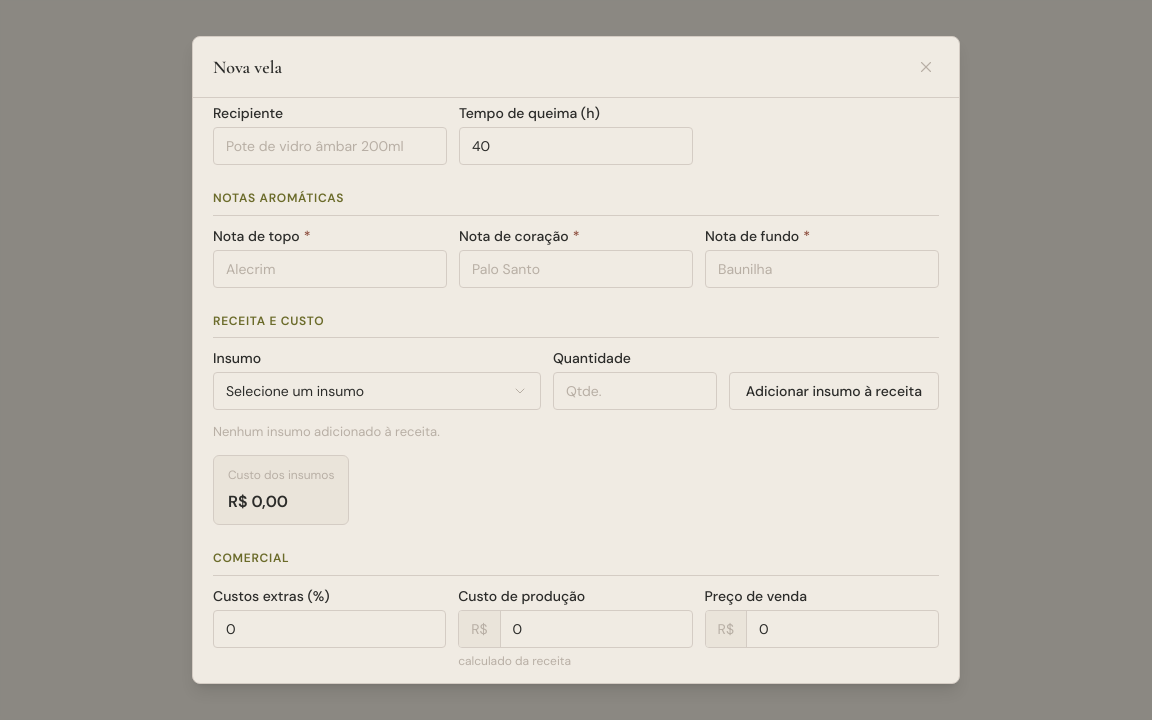
Test: ModalNovoProduto — Receita e custo › caso de erro: remover todos os insumos zera o custo calculado sem quebrar margem/markup
The image size is (1152, 720).
(page scrolled)
Select "Cera de soja (g)" in the dropdown labelled "Insumo" at (377, 391), box [213,372,541,410]
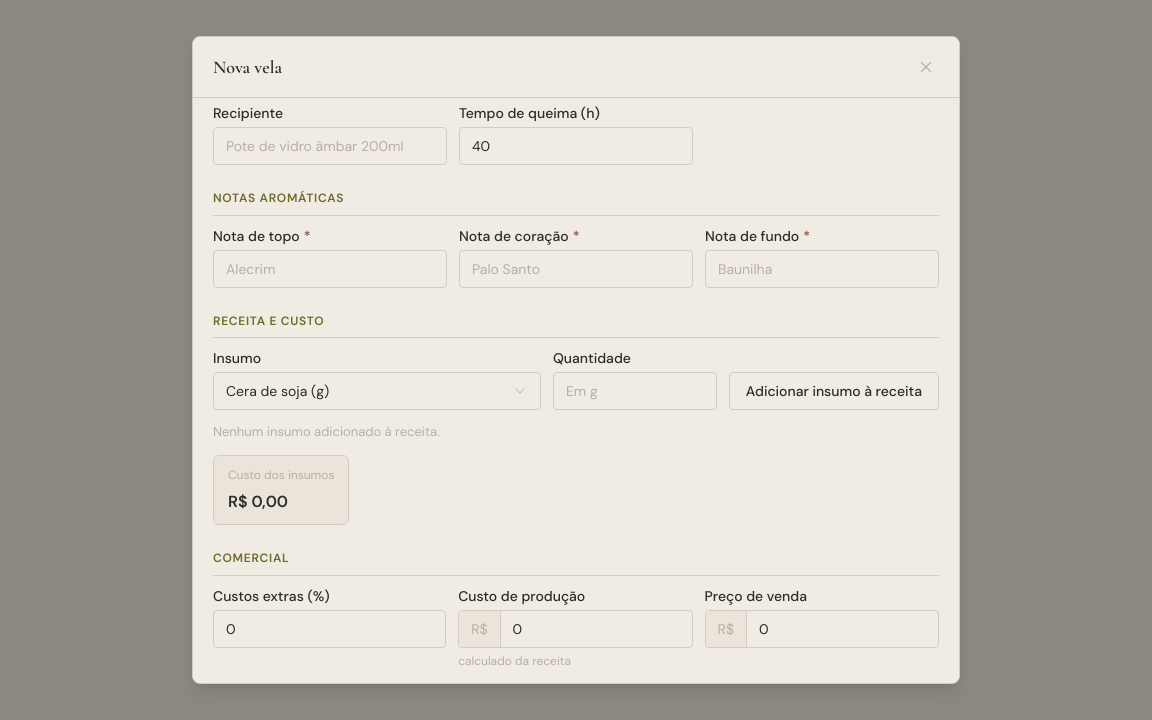
Type "50" into the number field labelled "Quantidade".
click(635, 391); type("50")  # box [553,372,717,410]
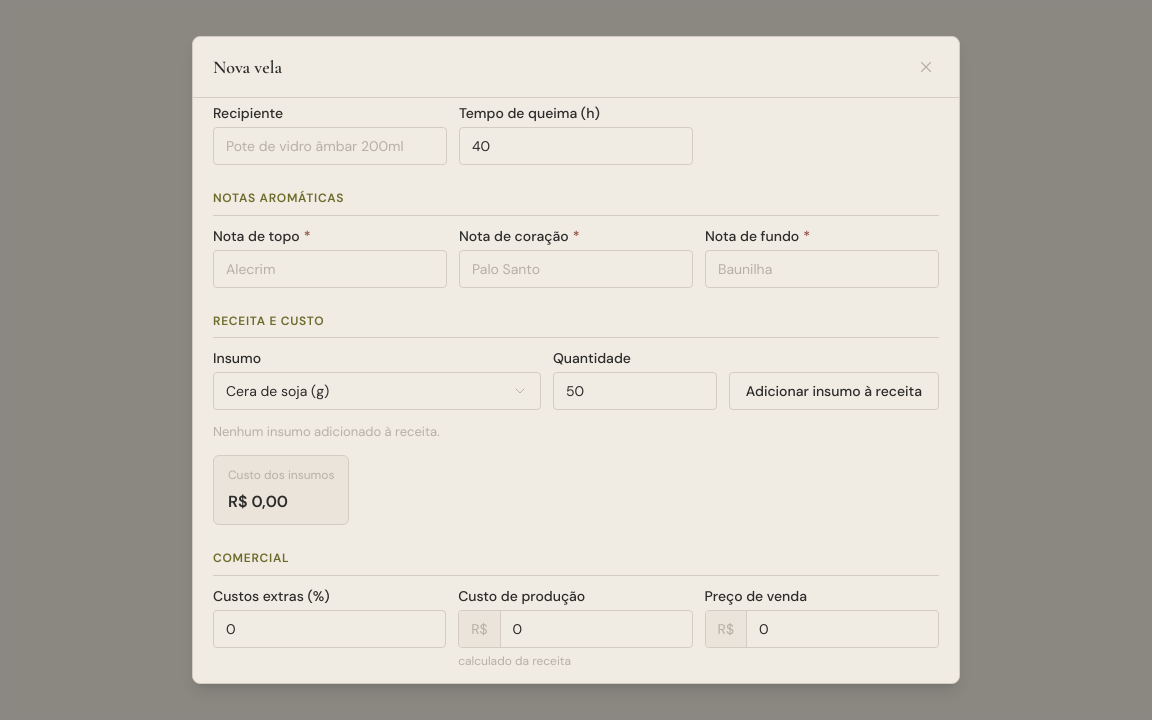
Click the button "Adicionar insumo à receita".
click(834, 391)  # box [729,372,939,410]
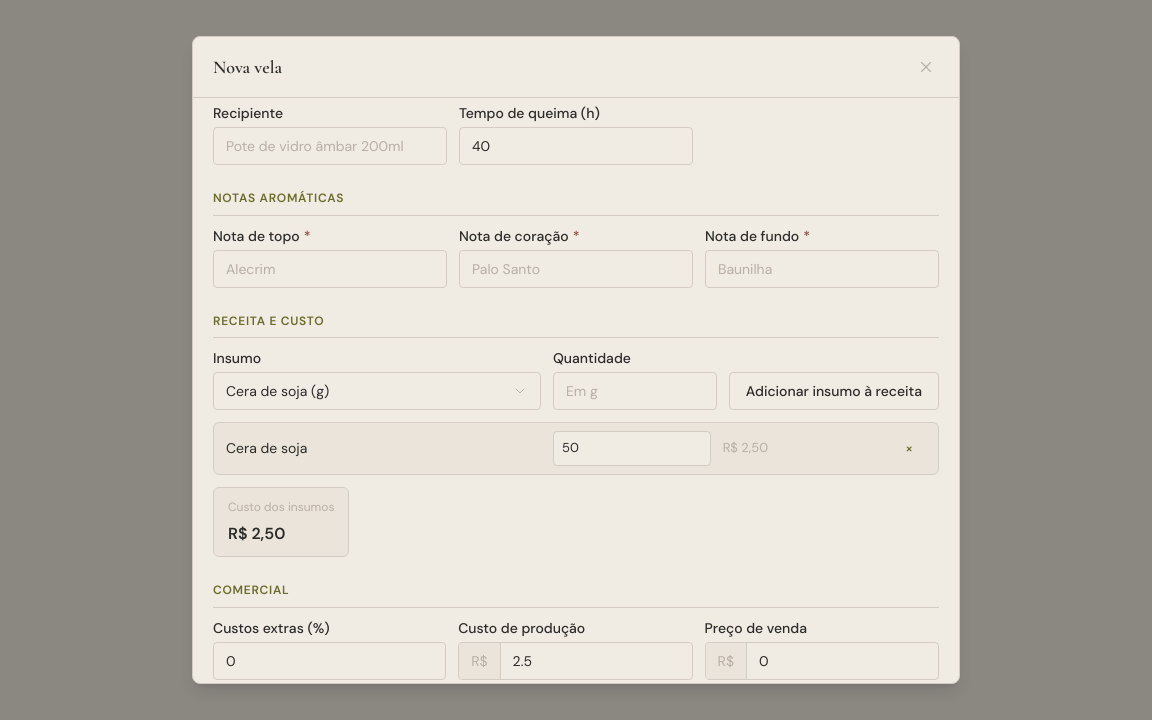
Click the button named "remover cera de soja da receita".
click(909, 448)  # box [892,431,926,465]
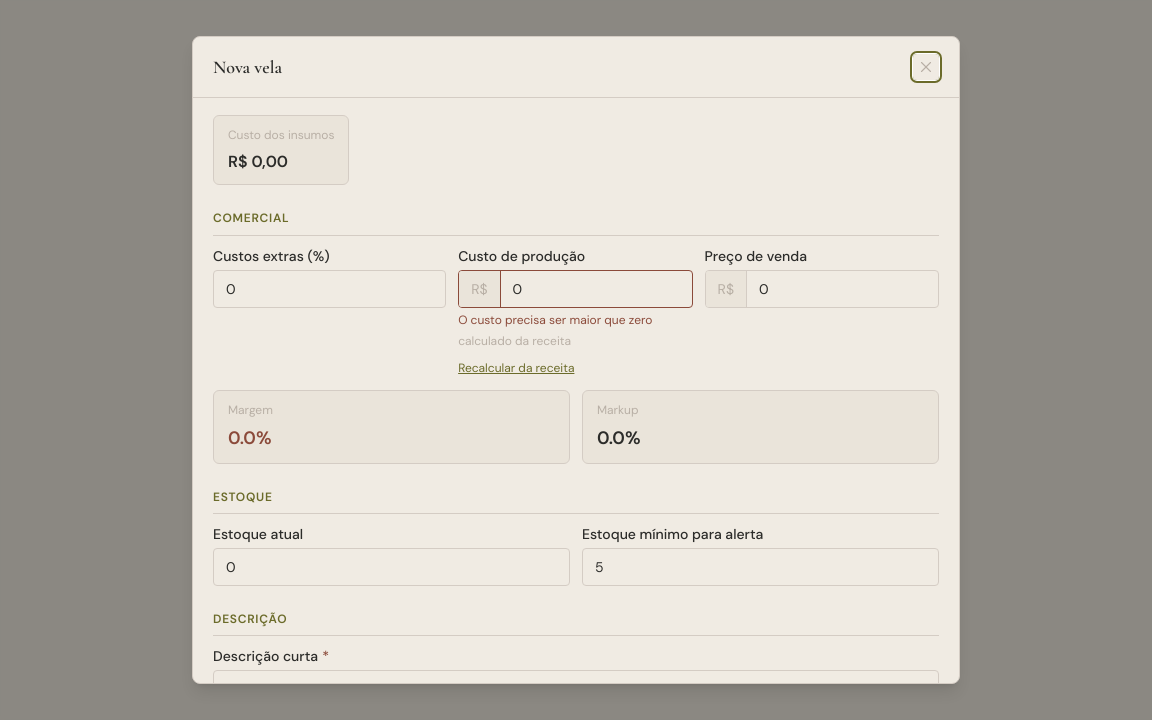
Expected: the text "Margem" is shown, [228,402,273,418]
Expected: the text "Markup" is shown, [597,402,638,418]
